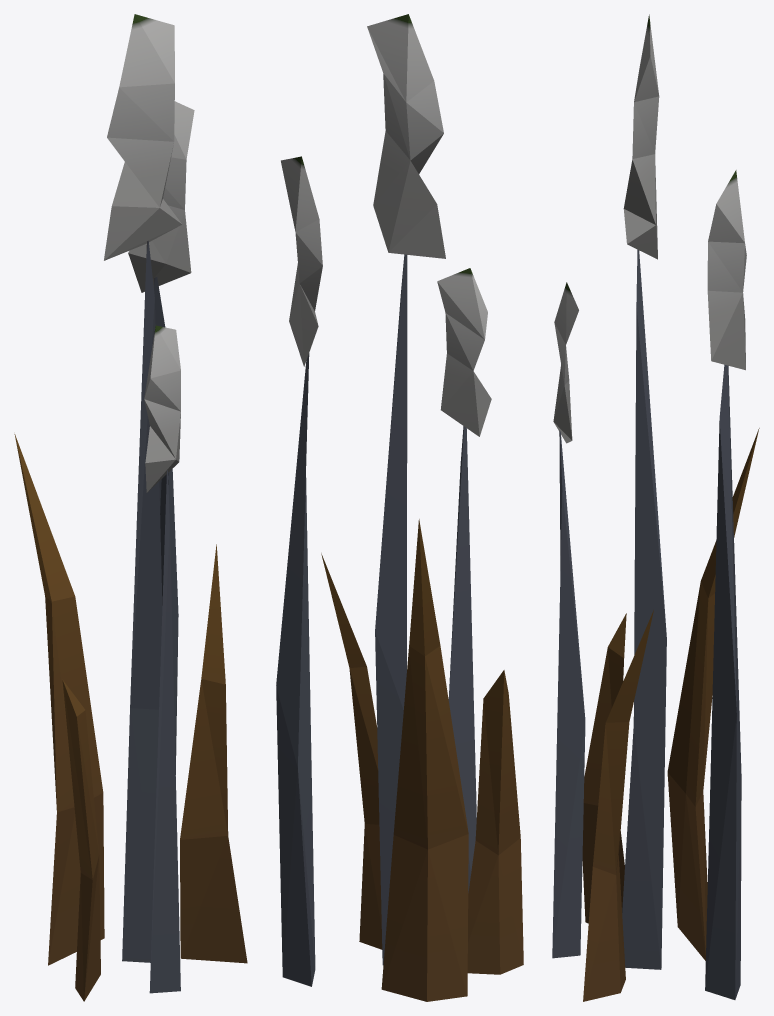
File: Millet_03.fbx
3 renders of one model, left to right at view 1: azimuth 30°, elevation 25°; view 2: azimuth 150°, elevation 25°; view 3: azimuth 270°, elevation 25°, orthographic.
Parts seen in each view (by area): view 1: Millet_03; view 2: Millet_03; view 3: Millet_03.
Boxes of the visible parts, x1,y1,x2,y2 form: Millet_03: (14,14,247,1001); Millet_03: (276,14,523,1001); Millet_03: (552,14,759,1001).
Bounding box in the file's own units: 0.114 × 0.5821 × 0.1153.
